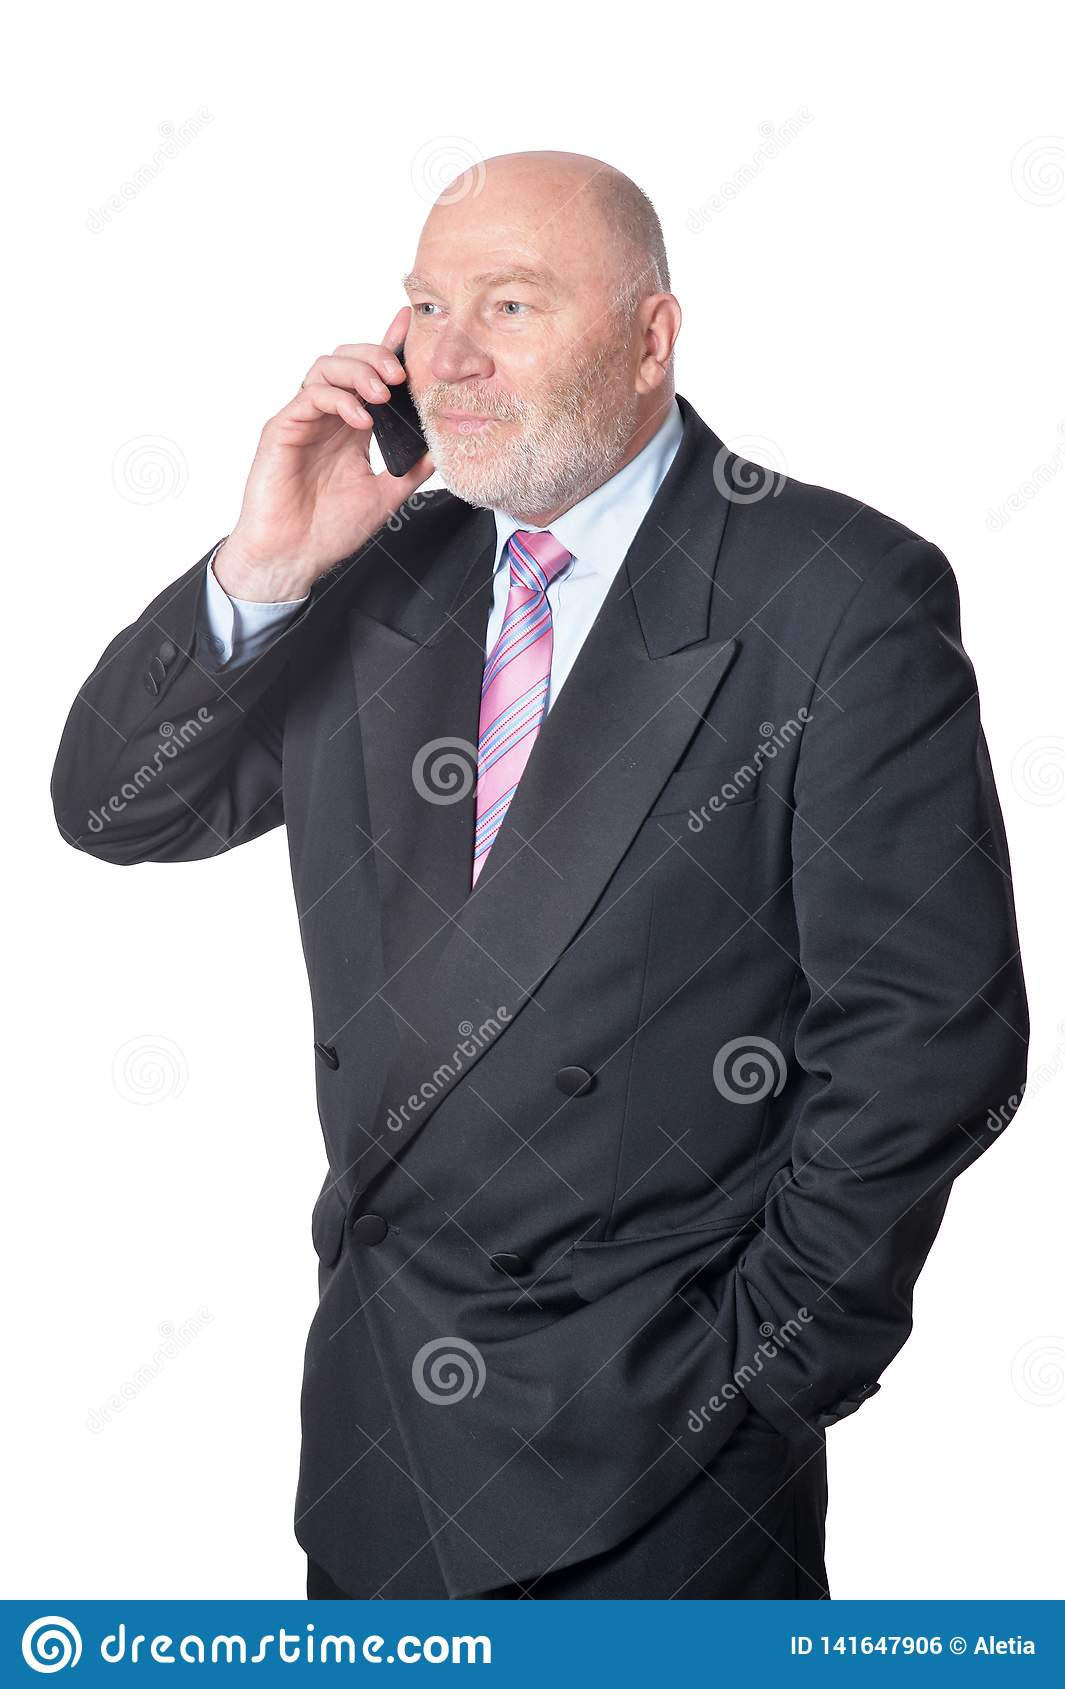phone: (366, 339, 432, 491)
talk: (243, 258, 564, 580)
